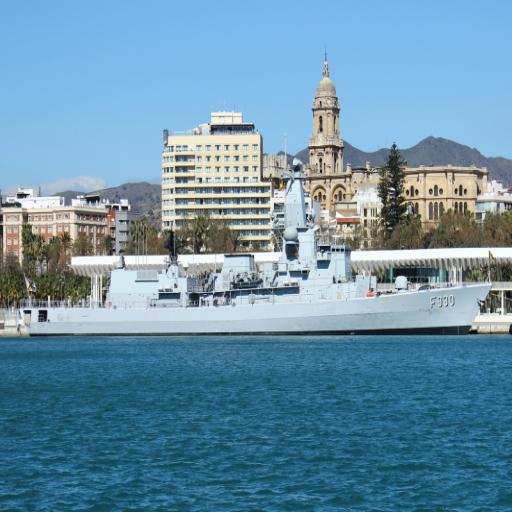Fragata: (17, 175, 495, 345)
